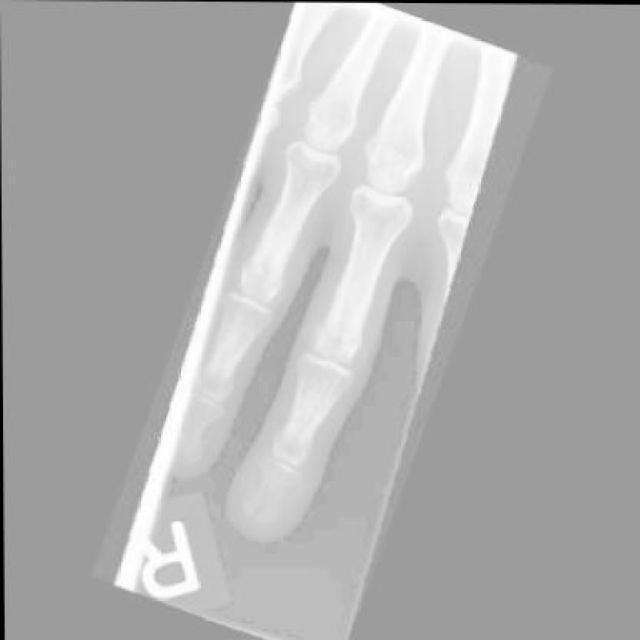Fracture: (226, 469, 301, 550)
